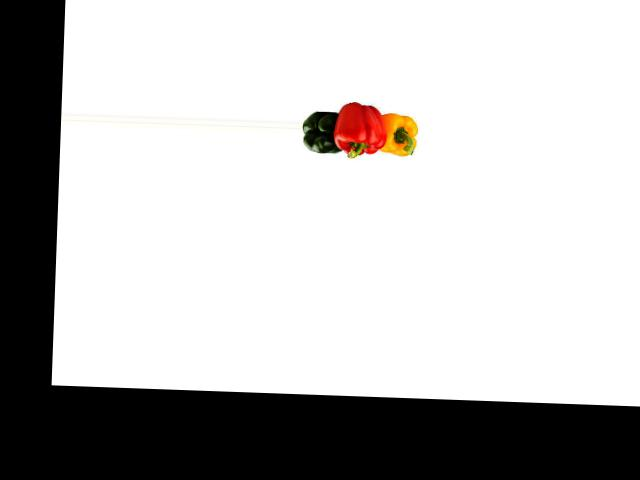bell_pepper: (376, 104, 421, 161)
